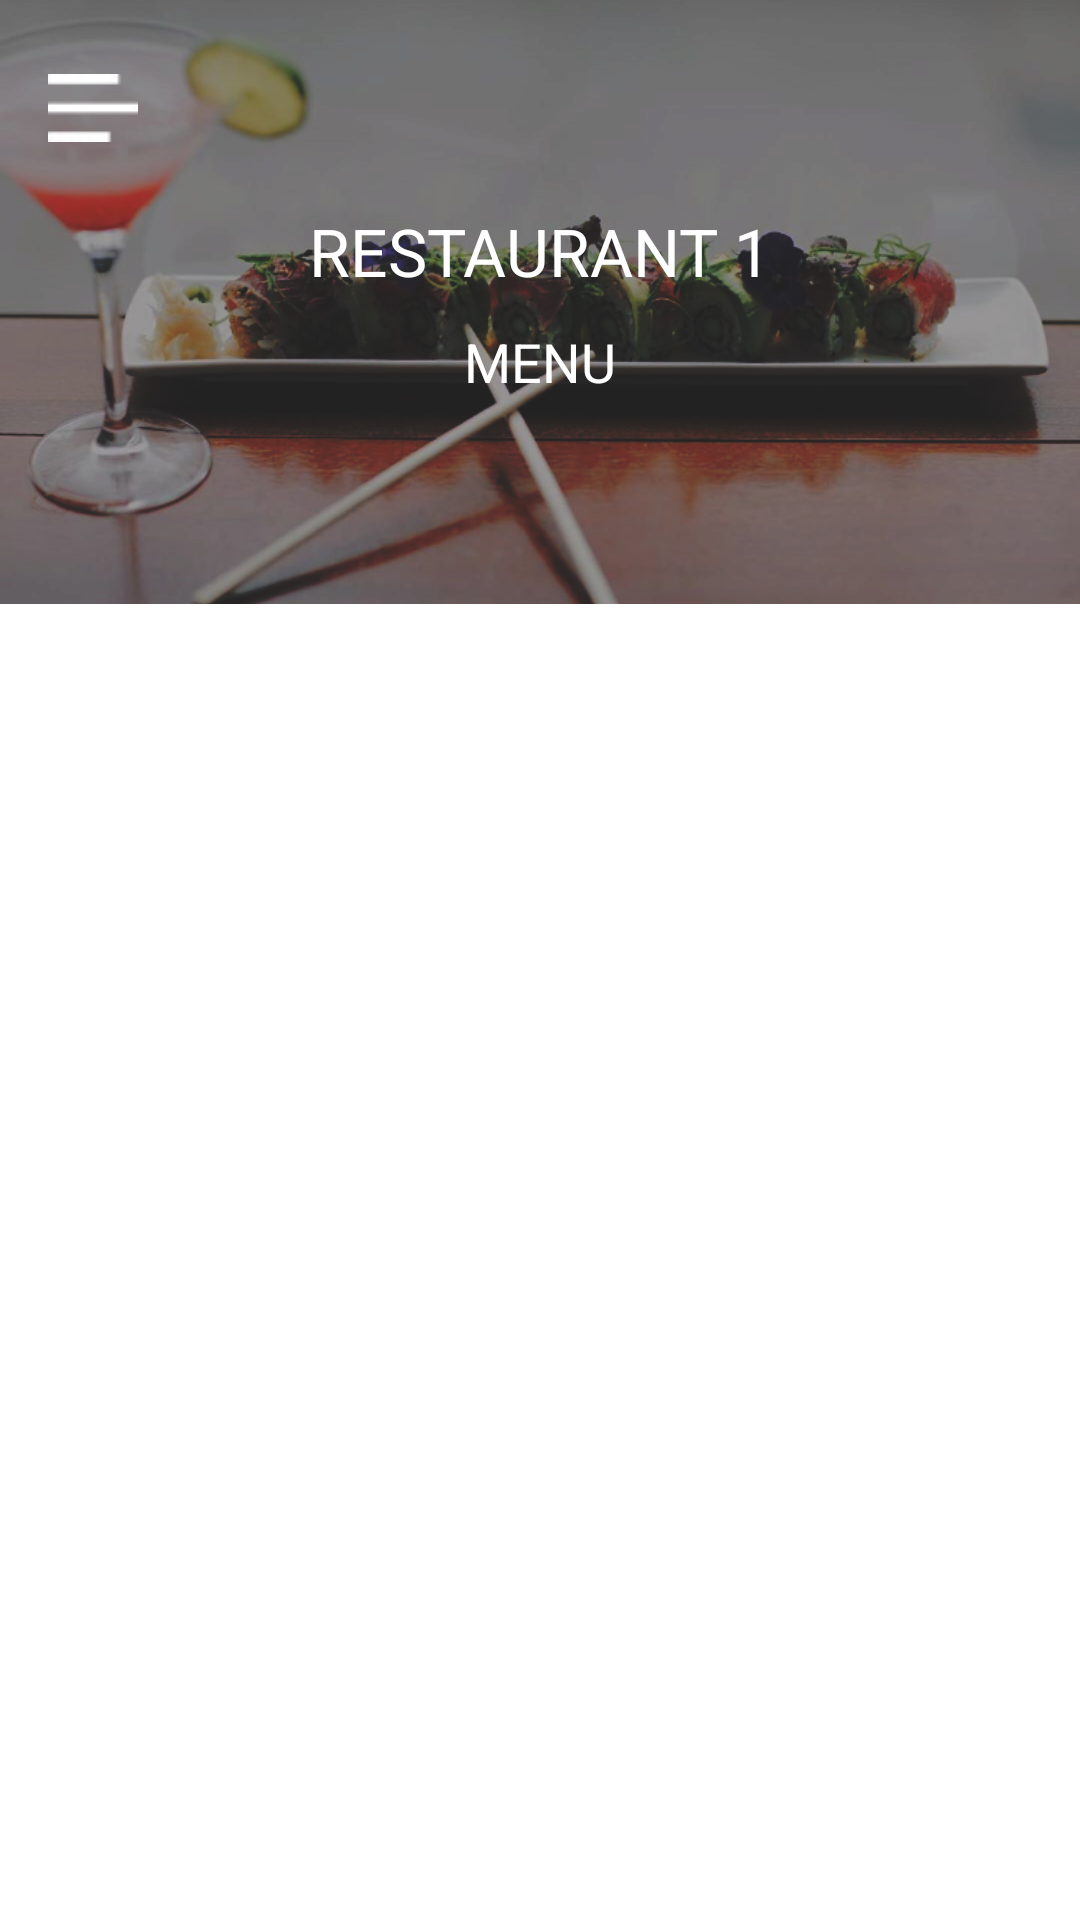

Where to tap for icons on this 1080×1920 app screen, as (x,y):
menu: (93,108)
